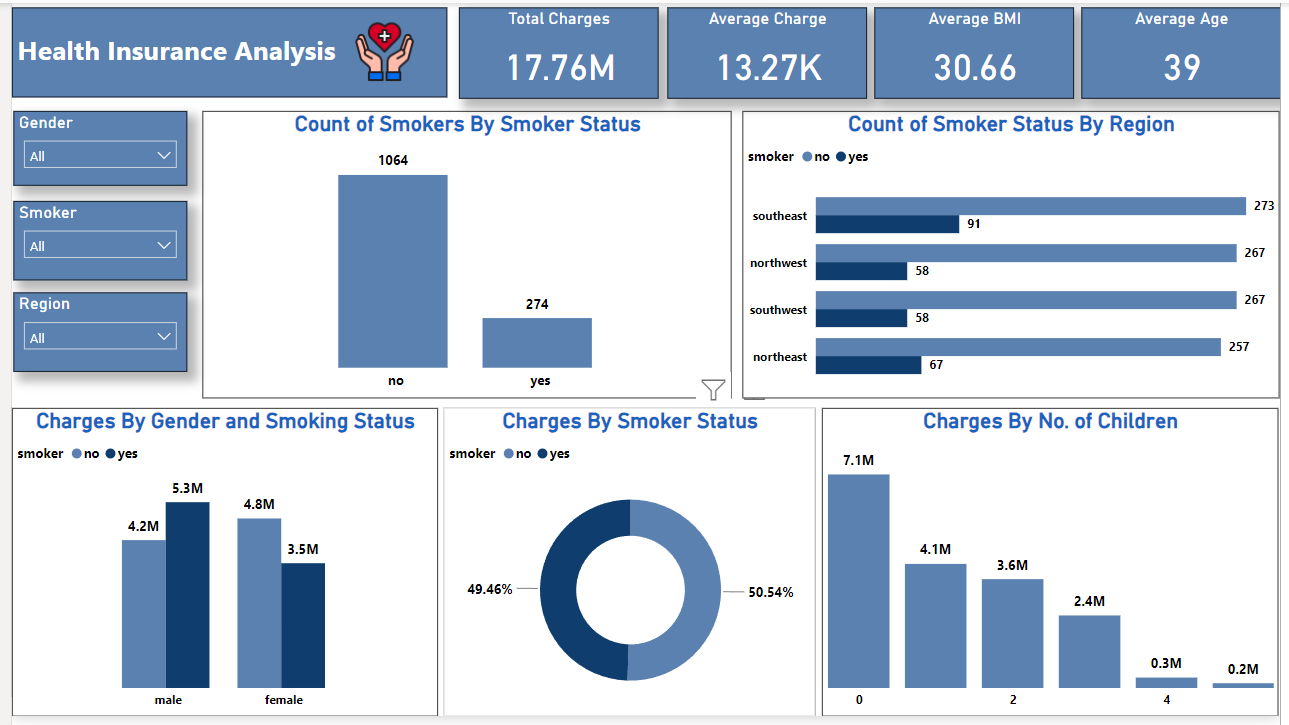

The page's visual inventory and layout, read from the dashboard file:
{"tool":"powerbi","page":{"name":"Page 1","canvas":[1280,720],"ordinal":0},"visuals":[{"type":"textbox","box":[0,4.6,439.1,90.6],"z":0,"group":"g2"},{"type":"slicer","title":"Smoker","fields":{"Values":["insurance (2).smoker"]},"box":[1.5,199.6,175,79.8],"z":0},{"type":"columnChart","title":"Count of Smokers By Smoker Status","fields":{"Category":["insurance (2).smoker"],"Y":["CountNonNull(insurance (2).smoker)"]},"box":[191.9,109,534.2,290.1],"z":1000},{"type":"image","box":[333.1,12.9,86,73.7],"z":2000,"group":"g2"},{"type":"clusteredColumnChart","title":"Charges By Gender and Smoking Status","fields":{"Category":["insurance (2).sex"],"Y":["Sum(insurance (2).charges)"],"Series":["insurance (2).smoker"]},"box":[0,408.4,429.9,311.6],"z":2000},{"type":"donutChart","title":"Charges By Smoker Status","fields":{"Category":["insurance (2).smoker"],"Y":["Sum(insurance (2).charges)"]},"box":[436,408.4,374.6,311.6],"z":3000},{"type":"group","id":"g1","title":"Group 1","box":[0,4.6,439.1,90.6],"z":4000},{"type":"slicer","title":"Region","fields":{"Values":["insurance (2).region"]},"box":[1.5,291.7,175,79.8],"z":5000},{"type":"slicer","title":"Gender","fields":{"Values":["insurance (2).sex"]},"box":[1.5,109,175,75.2],"z":6000},{"type":"clusteredBarChart","title":"Count of Smoker Status By Region","fields":{"Category":["insurance (2).region"],"Y":["CountNonNull(insurance (2).region)"],"Series":["insurance (2).smoker"]},"box":[736.9,109,541.9,290.1],"z":7000},{"type":"columnChart","title":"Charges By No. of Children","fields":{"Category":["insurance (2).children"],"Y":["Sum(insurance (2).charges)"]},"box":[818.3,408.4,460.6,311.6],"z":8000},{"type":"card","title":"Total Charges","fields":{"Values":["Sum(insurance (2).charges)"]},"box":[451.3,4.6,201.1,92.1],"z":9000},{"type":"group","id":"g2","title":"Group 2","box":[0,4.6,439.1,90.6],"z":9001,"group":"g1"},{"type":"card","title":"Average Charge","fields":{"Values":["Avg(insurance (2).charges)"]},"box":[661.7,4.6,201.1,92.1],"z":10000},{"type":"card","title":"Average BMI","fields":{"Values":["Avg(insurance (2).bmi)"]},"box":[870.4,4.6,201.1,92.1],"z":11000},{"type":"card","title":"Average Age","fields":{"Values":["Avg(insurance (2).age)"]},"box":[1078.9,4.6,201.1,92.1],"z":12000}]}

Visuals, with their boxes in screenshot pixels (x1, y1, x2, y2), scaled from the page's 1280x720 canvas onto the 1289x725 screenshot:
textbox: left=0, top=5, right=442, bottom=96
"Smoker" slicer: left=2, top=201, right=178, bottom=281
"Count of Smokers By Smoker Status" columnChart: left=193, top=110, right=731, bottom=402
image: left=335, top=13, right=422, bottom=87
"Charges By Gender and Smoking Status" clusteredColumnChart: left=0, top=411, right=433, bottom=724
"Charges By Smoker Status" donutChart: left=439, top=411, right=816, bottom=724
"Group 1" group: left=0, top=5, right=442, bottom=96
"Region" slicer: left=2, top=294, right=178, bottom=374
"Gender" slicer: left=2, top=110, right=178, bottom=185
"Count of Smoker Status By Region" clusteredBarChart: left=742, top=110, right=1288, bottom=402
"Charges By No. of Children" columnChart: left=824, top=411, right=1288, bottom=724
"Total Charges" card: left=454, top=5, right=657, bottom=97
"Group 2" group: left=0, top=5, right=442, bottom=96
"Average Charge" card: left=666, top=5, right=869, bottom=97
"Average BMI" card: left=877, top=5, right=1079, bottom=97
"Average Age" card: left=1086, top=5, right=1288, bottom=97
